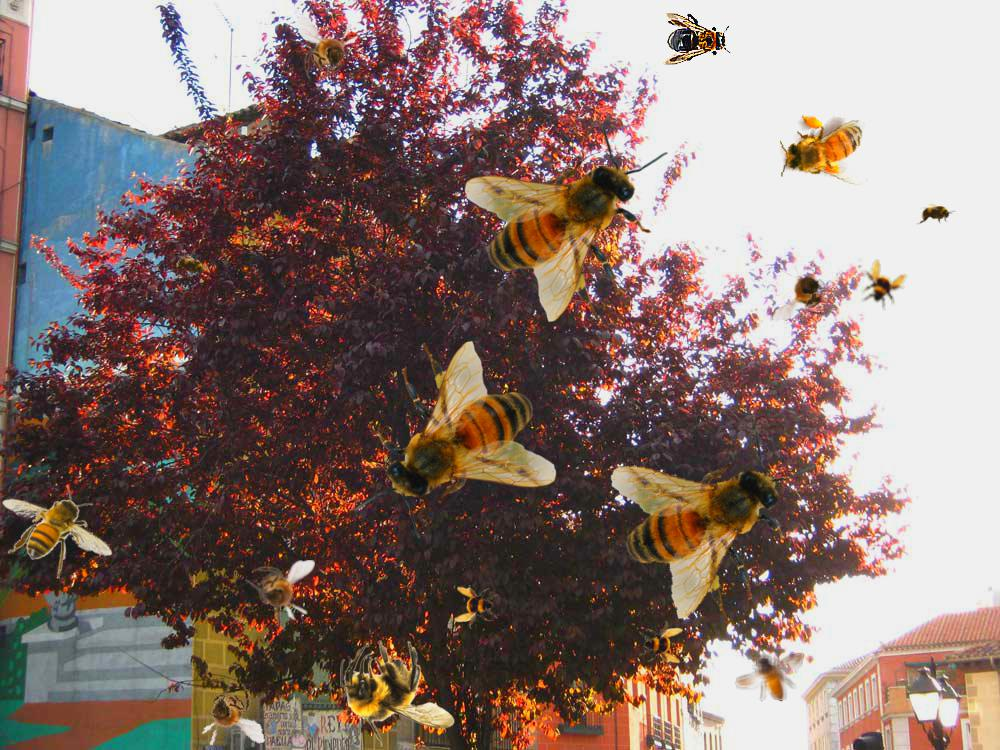Bee: (594, 410, 821, 634), (464, 123, 668, 322), (353, 341, 557, 540), (340, 640, 455, 747), (2, 485, 113, 579), (774, 108, 878, 191), (191, 673, 266, 750), (298, 16, 359, 86), (771, 261, 841, 322), (245, 560, 315, 621), (734, 652, 805, 702), (663, 13, 731, 65), (852, 256, 910, 314), (454, 585, 498, 629), (639, 621, 683, 665), (168, 249, 214, 285), (916, 203, 956, 225)
